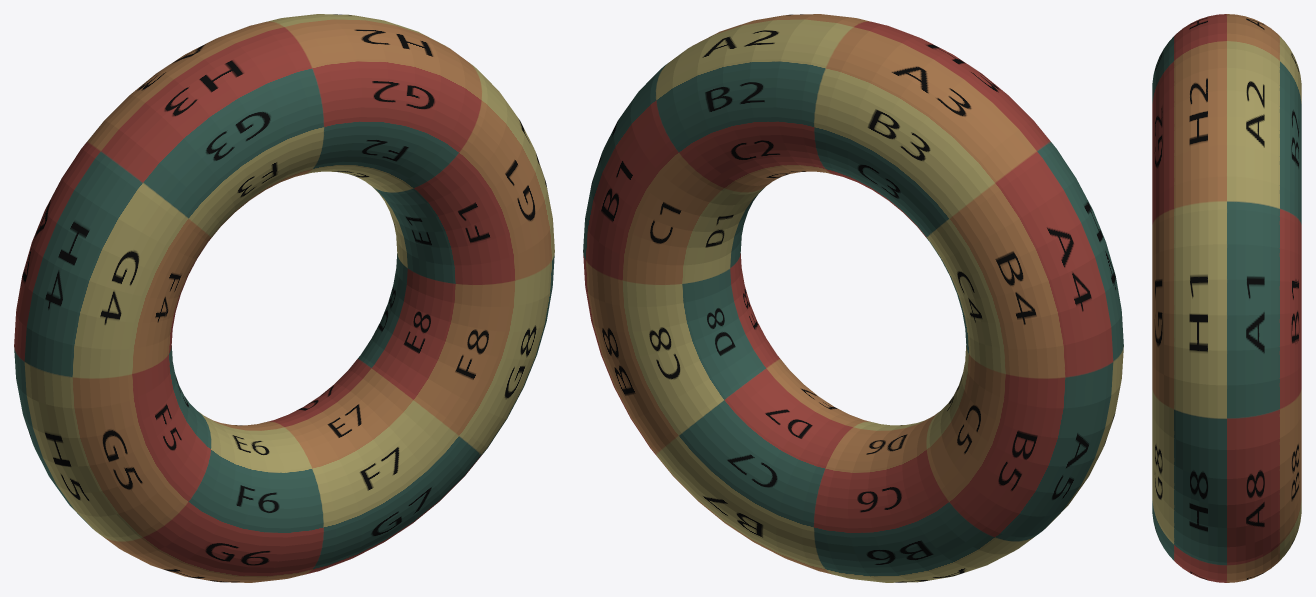
The model's file is texture_torus_R8_r13.glb.
3 renders of one model, left to right at view 1: azimuth 30°, elevation 25°; view 2: azimuth 150°, elevation 25°; view 3: azimuth 270°, elevation 25°, orthographic. The views are drawn at different scales.
Parts seen in each view (by area): view 1: world; view 2: world; view 3: world.
Part boxes in pixels (x1,y1,x2,y2): world: (14, 14, 554, 582); world: (583, 14, 1123, 582); world: (1152, 14, 1301, 582).
Size of the model in its own units: 20.8 by 20.76 by 5.46.
Materials: 1 (1 with a texture image).
